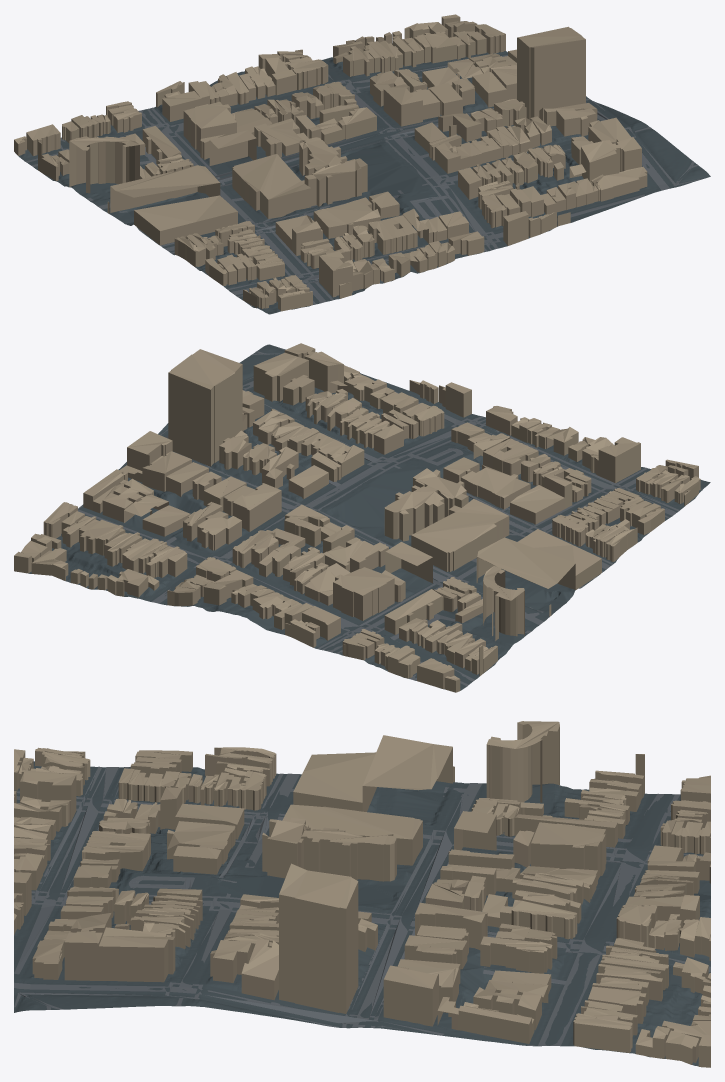
The model's file is epsg26910-1432-10892.lod0.glb.
3 renders of one model, top to bottom at view 1: azimuth 30°, elevation 25°; view 2: azimuth 150°, elevation 25°; view 3: azimuth 270°, elevation 25°, orthographic. The views are drawn at different scales.
Visible parts, largest first — view 1: epsg26910-1432-10892-lod0; view 2: epsg26910-1432-10892-lod0; view 3: epsg26910-1432-10892-lod0.
Part boxes in pixels (x1,y1,x2,y2): epsg26910-1432-10892-lod0: (14, 14, 710, 314); epsg26910-1432-10892-lod0: (14, 343, 710, 692); epsg26910-1432-10892-lod0: (14, 721, 710, 1067).
Size of the model in its own units: 384 by 107 by 384.
